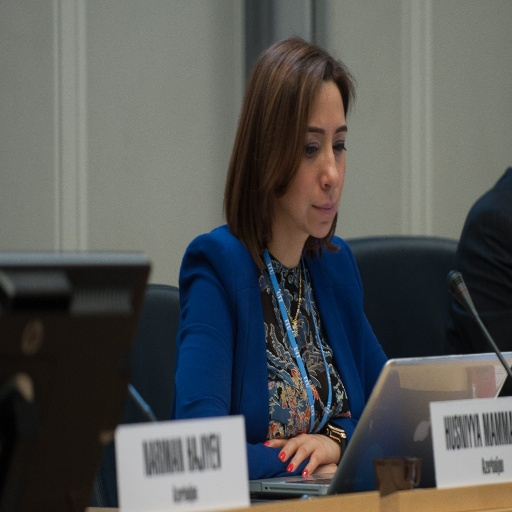hand: (270, 425, 348, 483), (311, 461, 338, 475)
